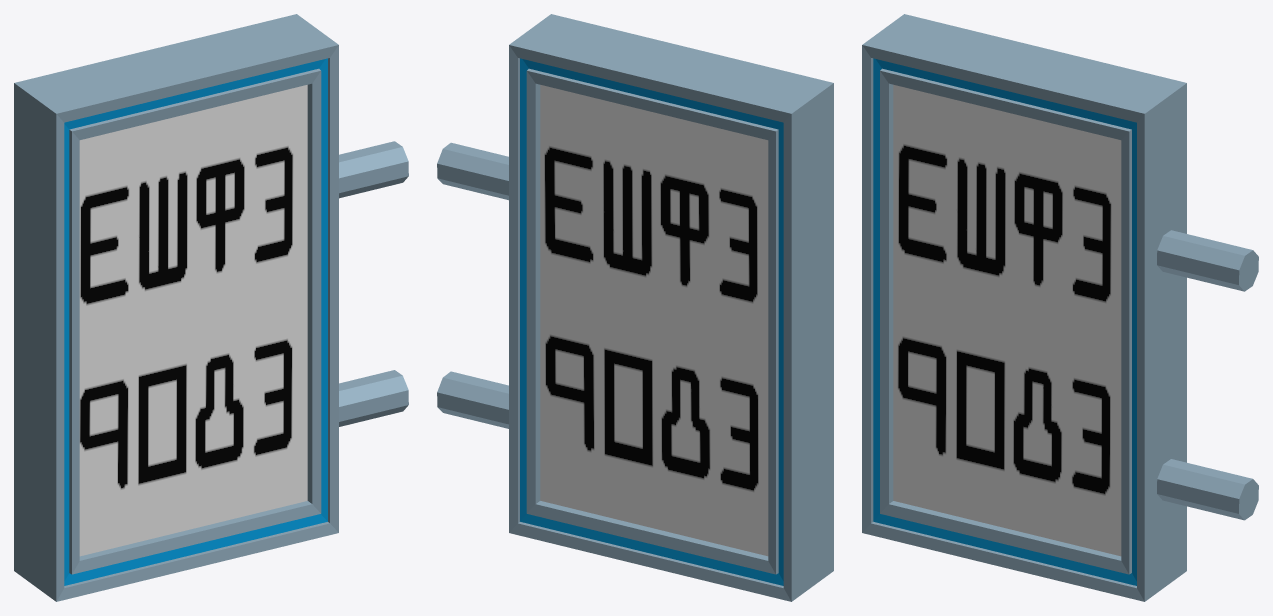
Rendered from Sign_Side03.fbx.
The picture shows the model from 3 angles, left to right: view 1: azimuth 30°, elevation 25°; view 2: azimuth 150°, elevation 25°; view 3: azimuth 330°, elevation 25°; orthographic projection.
Parts seen in each view (by area): view 1: Cube.469; view 2: Cube.469; view 3: Cube.469.
Part boxes in pixels (left/top/right/bottom): Cube.469: left=14, top=14, right=408, bottom=601; Cube.469: left=437, top=14, right=833, bottom=601; Cube.469: left=862, top=14, right=1258, bottom=601.
Size of the model in its own units: 97.29 by 124 by 19.51.
